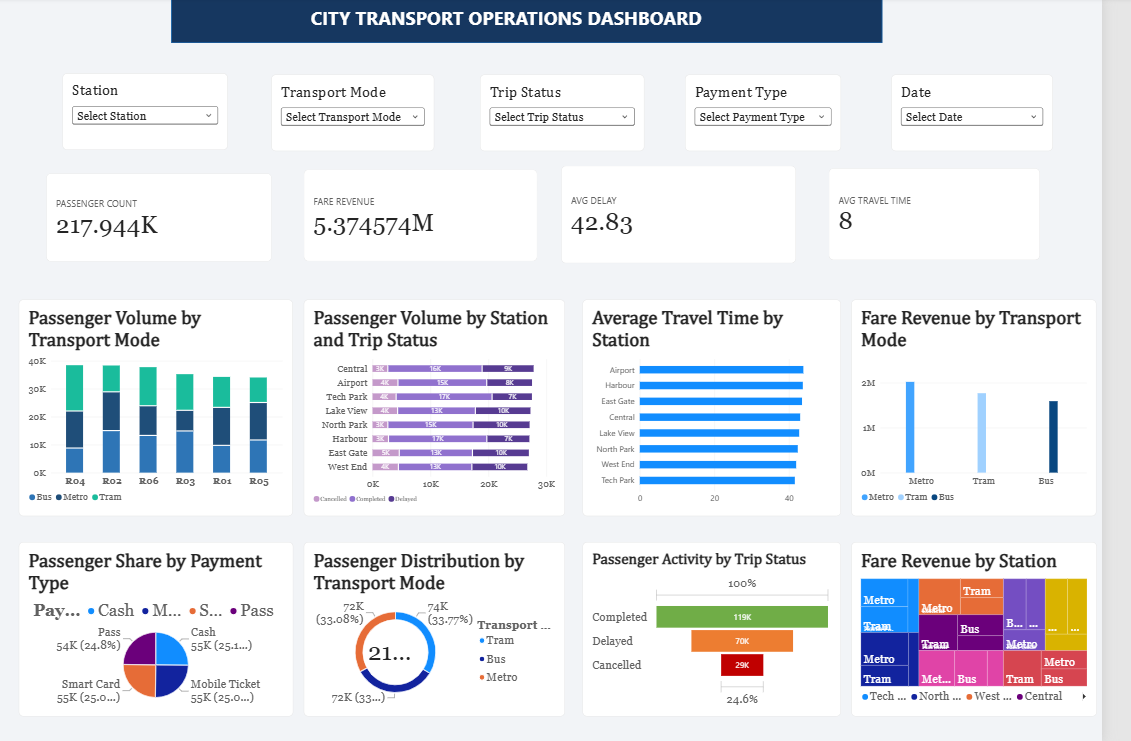

The dashboard page shown, as its layout file describes it:
{"tool":"powerbi","page":{"name":"Page 1","canvas":[1920,1300],"ordinal":0},"visuals":[{"type":"shape","box":[298.5,0,1239.1,80.3],"z":0},{"type":"textbox","box":[366.4,14.4,979.8,65.9],"z":1},{"type":"listSlicer","fields":{"Values":["Transport Data.Transport Mode"]},"box":[473.4,135.8,284,133.8],"z":5},{"type":"listSlicer","fields":{"Values":["Transport Data.Payment Type"]},"box":[1193.8,135.8,271.7,133.8],"z":6},{"type":"listSlicer","fields":{"Values":["Transport Data.Trip Status"]},"box":[835.7,135.8,286.1,133.8],"z":7},{"type":"listSlicer","fields":{"Values":["Transport Data.Date"]},"box":[1554,135.8,282,133.8],"z":8},{"type":"listSlicer","fields":{"Values":["Transport Data.Station"]},"box":[109.1,133.8,288.2,133.8],"z":9},{"type":"cardVisual","fields":{"Data":["Sum(Transport Data.Passenger Count)"]},"box":[80.3,306.7,393.1,154.4],"z":10},{"type":"cardVisual","fields":{"Data":["Avg(Transport Data.Delay (min))"]},"box":[1444.2,298.4,368.4,160.5],"z":12},{"type":"cardVisual","fields":{"Data":["Sum(Transport Data.Fare Revenue)"]},"box":[529.3,300.6,407.5,160.5],"z":13},{"type":"cardVisual","fields":{"Data":["Avg(Transport Data.Avg Travel Time (min))"]},"box":[978.1,294.1,409.6,170.8],"z":14},{"type":"columnChart","title":"Passenger Volume by Transport Mode","fields":{"Category":["Transport Data.Route"],"Series":["Transport Data.Transport Mode"],"Y":["Sum(Transport Data.Passenger Count)"]},"box":[32.5,527.5,477.5,377.5],"z":15},{"type":"barChart","fields":{"Category":["Transport Data.Station"],"Series":["Transport Data.Trip Status"],"Y":["Sum(Transport Data.Passenger Count)"]},"box":[530,527.5,455,377.5],"z":16},{"type":"clusteredBarChart","fields":{"Category":["Transport Data.Station"],"Y":["Avg(Transport Data.Avg Travel Time (min))"]},"box":[1015,527.5,450,377.5],"z":17},{"type":"clusteredColumnChart","title":"Fare Revenue by Transport Mode","fields":{"Category":["Transport Data.Transport Mode"],"Series":["Transport Data.Transport Mode"],"Y":["Sum(Transport Data.Fare Revenue)"]},"box":[1482.5,527.5,427.5,377.5],"z":18},{"type":"pieChart","title":"Passenger Share by Payment Type","fields":{"Category":["Transport Data.Payment Type"],"Y":["Sum(Transport Data.Passenger Count)"]},"box":[32.5,950,478,304],"z":19},{"type":"donutChart","title":"Passenger Distribution by Transport Mode","fields":{"Category":["Transport Data.Transport Mode"],"Y":["Sum(Transport Data.Passenger Count)"]},"box":[530,950,455,304],"z":20},{"type":"funnel","title":"Passenger Activity by Trip Status","fields":{"Category":["Transport Data.Trip Status"],"Y":["Sum(Transport Data.Passenger Count)"]},"box":[1015,950,450,304],"z":21},{"type":"treemap","title":"Fare Revenue by Station","fields":{"Details":["Transport Data.Transport Mode"],"Group":["Transport Data.Station"],"Values":["Sum(Transport Data.Fare Revenue)"]},"box":[1483,950,428,304],"z":22}]}

Visuals, with their boxes on the page's 1920x1300 design canvas (x1, y1, x2, y2). These are canvas units, not pixel positions in the 1131x741 screenshot, which may show the page scaled, cropped or inside an application window:
shape: 298,0,1538,80
textbox: 366,14,1346,80
listSlicer - Transport Data.Transport Mode: 473,136,757,270
listSlicer - Transport Data.Payment Type: 1194,136,1466,270
listSlicer - Transport Data.Trip Status: 836,136,1122,270
listSlicer - Transport Data.Date: 1554,136,1836,270
listSlicer - Transport Data.Station: 109,134,397,268
cardVisual - Sum(Transport Data.Passenger Count): 80,307,473,461
cardVisual - Avg(Transport Data.Delay (min)): 1444,298,1813,459
cardVisual - Sum(Transport Data.Fare Revenue): 529,301,937,461
cardVisual - Avg(Transport Data.Avg Travel Time (min)): 978,294,1388,465
"Passenger Volume by Transport Mode" columnChart: 32,528,510,905
barChart - Transport Data.Station x Transport Data.Trip Status: 530,528,985,905
clusteredBarChart - Transport Data.Station x Avg(Transport Data.Avg Travel Time (min)): 1015,528,1465,905
"Fare Revenue by Transport Mode" clusteredColumnChart: 1482,528,1910,905
"Passenger Share by Payment Type" pieChart: 32,950,510,1254
"Passenger Distribution by Transport Mode" donutChart: 530,950,985,1254
"Passenger Activity by Trip Status" funnel: 1015,950,1465,1254
"Fare Revenue by Station" treemap: 1483,950,1911,1254
